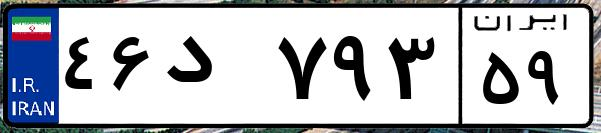3: (385, 28, 445, 110)
4: (57, 26, 110, 100)
5: (475, 38, 525, 113)
6: (110, 28, 158, 98)
7: (270, 28, 330, 110)
9: (330, 28, 385, 110), (525, 38, 570, 115)
د: (158, 20, 270, 120)
